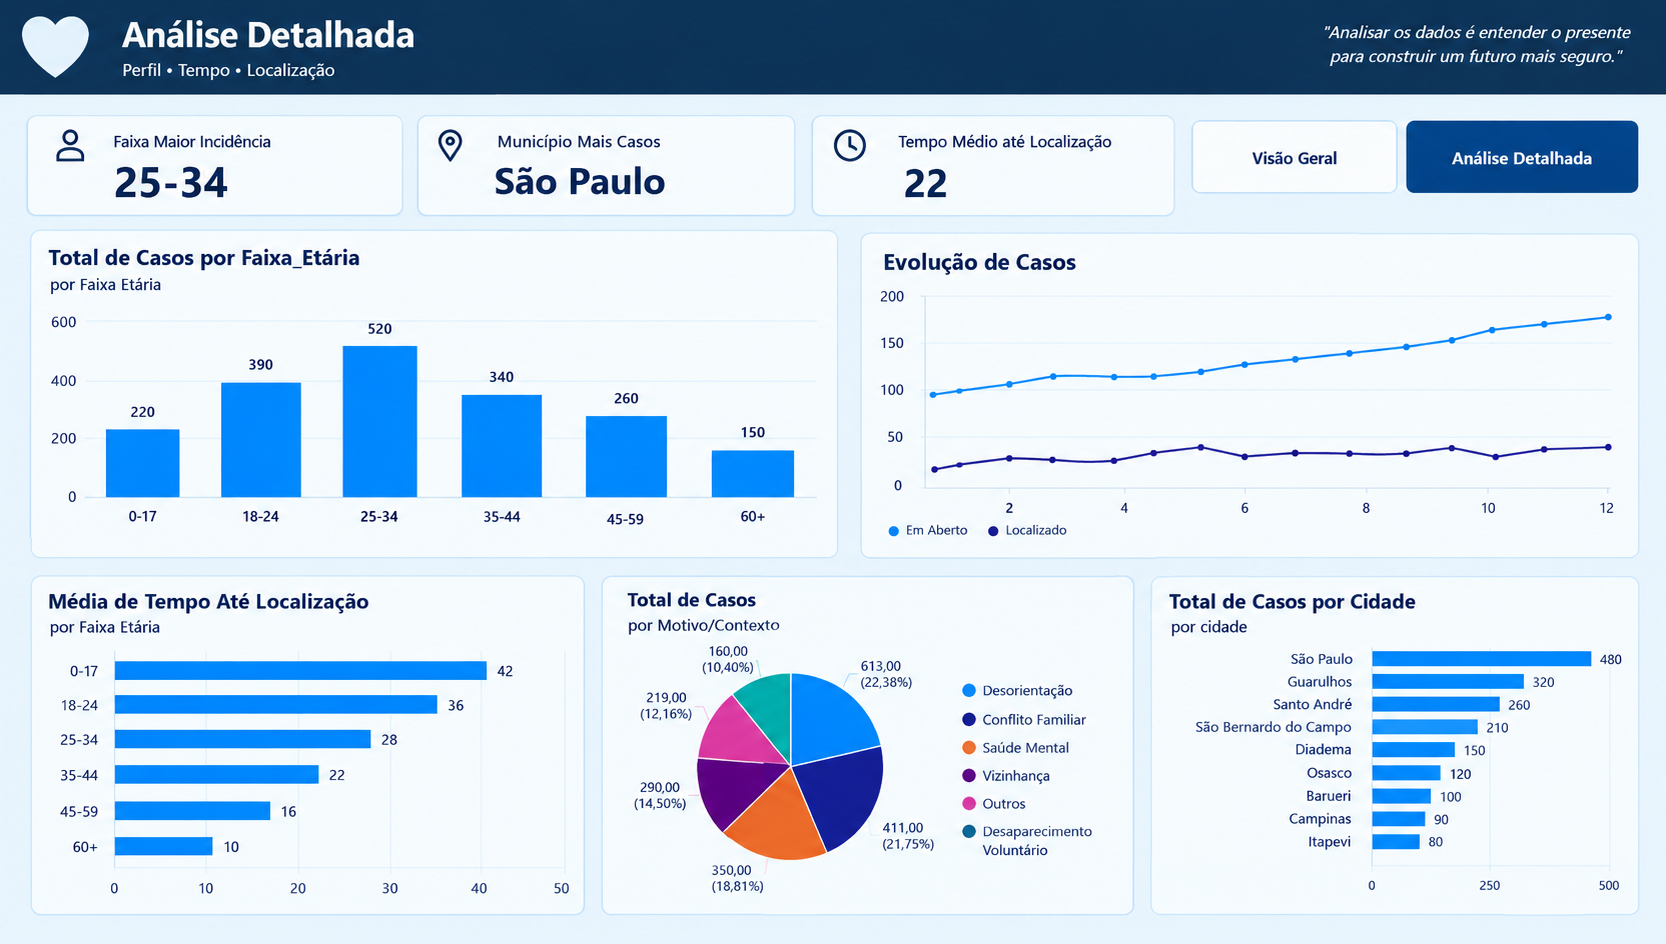

The page's visual inventory and layout, read from the dashboard file:
{"tool":"powerbi","page":{"name":"Análise Detalhada","canvas":[1920,1080],"ordinal":1},"visuals":[{"type":"shape","box":[0,0,1918.1,86.4],"z":0,"group":"g2"},{"type":"shape","box":[1.9,0,1918.5,86.7],"z":0,"group":"g1"},{"type":"cardVisual","fields":{"Data":["FATO_Desaparecimentos.Tempo Médio até Localização"]},"box":[1045.4,103.7,375.8,90.7],"z":0},{"type":"shape","box":[0.3,55.8,117.5,1023.9],"z":1000,"group":"g2"},{"type":"shape","box":[2.2,55.8,117.5,1023.9],"z":1000,"group":"g1"},{"type":"barChart","title":"Média de Tempo Até Localização","fields":{"Category":["FATO_Desaparecimentos.Faixa_Etária"],"Y":["Avg(FATO_Desaparecimentos.Tempo_Até_Localização)"]},"box":[157.7,583.2,514.1,468.7],"z":1000},{"type":"lineChart","title":"Evolução de Casos ","fields":{"Category":["DIM_Calendário.Mês_Num"],"Series":["FATO_Desaparecimentos.Status"],"Y":["FATO_Desaparecimentos.Total de Casos"]},"box":[1045.4,211.7,799.2,337],"z":2000},{"type":"clusteredBarChart","fields":{"Category":["DIM_Localizações.Cidade"],"Y":["FATO_Desaparecimentos.Total de Casos"]},"box":[1311.1,583.2,534,469.8],"z":3000},{"type":"group","id":"g1","title":"Grupo 7","box":[1.9,0,1918.1,1080],"z":4000},{"type":"columnChart","fields":{"Category":["FATO_Desaparecimentos.Faixa_Etária"],"Y":["FATO_Desaparecimentos.Total de Casos"]},"box":[157.7,211.7,773.3,337],"z":4000},{"type":"cardVisual","fields":{"Data":["FATO_Desaparecimentos.Faixa Maior Incidência"]},"box":[157.7,103.7,295.9,90.7],"z":5000},{"type":"cardVisual","fields":{"Data":["DIM_Localizacoes.Município Mais Casos"]},"box":[630.7,103.7,300.2,90.7],"z":6000},{"type":"pieChart","fields":{"Category":["FATO_Desaparecimentos.Motivo/Contexto"],"Y":["FATO_Desaparecimentos.Total de Casos"]},"box":[725.8,583.2,533.5,468.7],"z":7000},{"type":"pageNavigator","box":[1445,103.7,399.6,90.7],"z":8000},{"type":"group","id":"g2","title":"Grupo 1","box":[0,0,1918.1,1079.7],"z":9000},{"type":"shape","box":[22.1,11.8,76.4,69.1],"z":9001},{"type":"textbox","box":[126.4,11.8,535.1,44.1],"z":9002},{"type":"textbox","box":[132.3,55.9,651.3,30.9],"z":9003},{"type":"textbox","box":[1570.1,20.6,311.7,44.1],"z":9004}]}

Visuals, with their boxes in screenshot pixels (x1, y1, x2, y2), scaled from the page's 1920x1080 canvas onto the 1666x944 screenshot:
shape: (left=0, top=0, right=1664, bottom=76)
shape: (left=2, top=0, right=1665, bottom=76)
cardVisual - FATO_Desaparecimentos.Tempo Médio até Localização: (left=907, top=91, right=1233, bottom=170)
shape: (left=0, top=49, right=102, bottom=943)
shape: (left=2, top=49, right=104, bottom=943)
"Média de Tempo Até Localização" barChart: (left=137, top=510, right=583, bottom=919)
"Evolução de Casos " lineChart: (left=907, top=185, right=1601, bottom=480)
clusteredBarChart - DIM_Localizações.Cidade x FATO_Desaparecimentos.Total de Casos: (left=1138, top=510, right=1601, bottom=920)
"Grupo 7" group: (left=2, top=0, right=1665, bottom=943)
columnChart - FATO_Desaparecimentos.Faixa_Etária x FATO_Desaparecimentos.Total de Casos: (left=137, top=185, right=808, bottom=480)
cardVisual - FATO_Desaparecimentos.Faixa Maior Incidência: (left=137, top=91, right=394, bottom=170)
cardVisual - DIM_Localizacoes.Município Mais Casos: (left=547, top=91, right=808, bottom=170)
pieChart - FATO_Desaparecimentos.Motivo/Contexto x FATO_Desaparecimentos.Total de Casos: (left=630, top=510, right=1093, bottom=919)
pageNavigator: (left=1254, top=91, right=1601, bottom=170)
"Grupo 1" group: (left=0, top=0, right=1664, bottom=943)
shape: (left=19, top=10, right=85, bottom=71)
textbox: (left=110, top=10, right=574, bottom=49)
textbox: (left=115, top=49, right=680, bottom=76)
textbox: (left=1362, top=18, right=1633, bottom=57)
